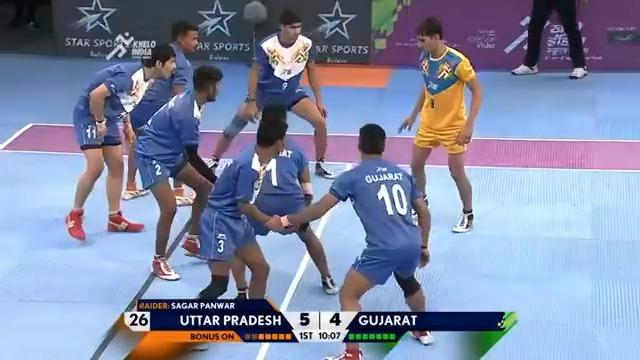Player: (272, 121, 437, 357), (65, 43, 177, 240), (207, 9, 335, 179), (131, 63, 224, 280), (123, 20, 217, 203)
Raider: (396, 15, 484, 234)
referee: (510, 0, 588, 79)
